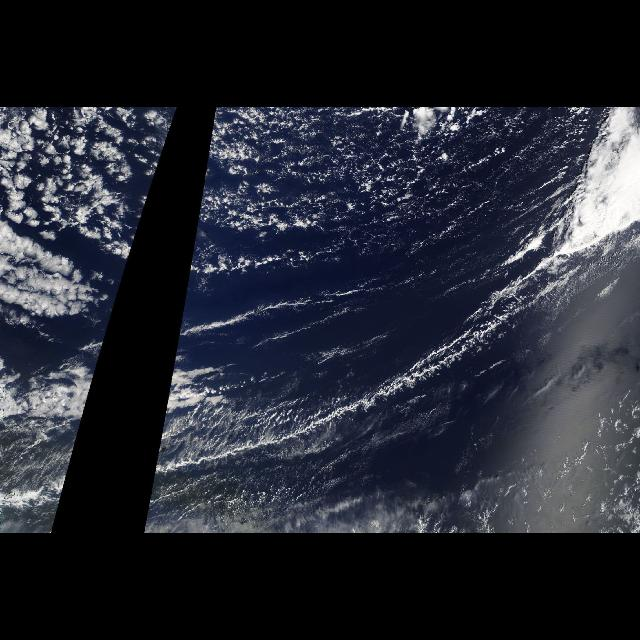Fish: (157, 386, 375, 520)
Flower: (1, 110, 143, 326)
Gravel: (211, 107, 567, 280)
Sugar: (228, 115, 470, 235), (162, 472, 352, 534)
